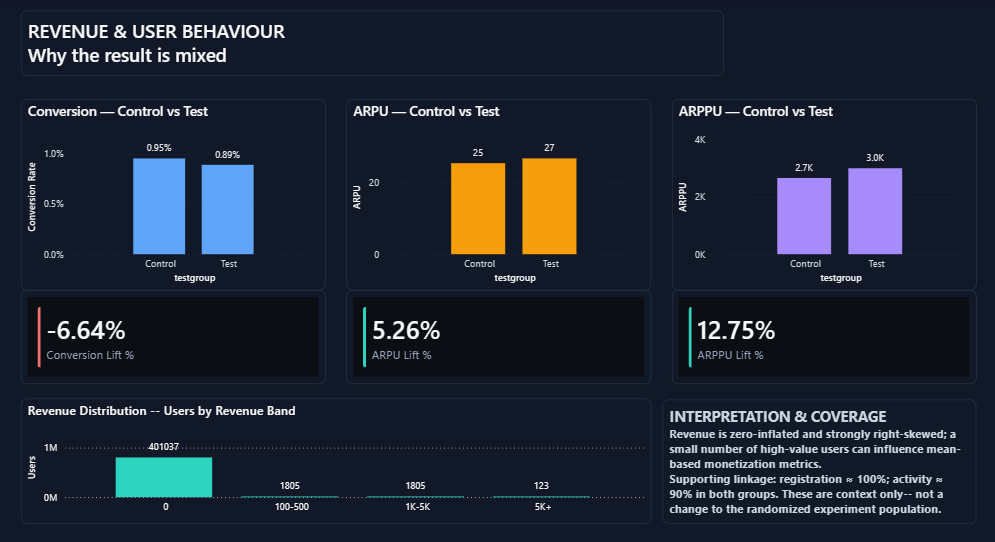

Layout of this report page (visuals, bound fields, positions):
{"tool":"powerbi","page":{"name":"Revenue & User Behaviour","canvas":[1280,720],"ordinal":1},"visuals":[{"type":"textbox","box":[27.9,17.6,899.6,83.6],"z":1000},{"type":"clusteredColumnChart","title":"Conversion — Control vs Test","fields":{"Category":["ab_test.testgroup"],"Y":["ab_test.Conversion Rate"]},"box":[27.9,130.6,390,245],"z":1000},{"type":"clusteredColumnChart","title":"ARPU — Control vs Test","fields":{"Category":["ab_test.testgroup"],"Y":["ab_test.ARPU"]},"box":[444.6,130.6,390,245],"z":1000},{"type":"clusteredColumnChart","title":"ARPPU — Control vs Test","fields":{"Category":["ab_test.testgroup"],"Y":["ab_test.ARPPU"]},"box":[861.4,130.6,390,245],"z":1000},{"type":"cardVisual","fields":{"Data":["ab_test.Conversion Lift %"]},"box":[28,375,390,120],"z":1000},{"type":"cardVisual","fields":{"Data":["ab_test.ARPU Lift %"]},"box":[445,375,390,120],"z":1000},{"type":"cardVisual","fields":{"Data":["ab_test.ARPPU Lift %"]},"box":[862,375,390,120],"z":1000},{"type":"textbox","box":[850,515,402,160],"z":1000},{"type":"clusteredColumnChart","title":"Revenue Distribution -- Users by Revenue Band","fields":{"Category":["Revenue Distribution.Revenue Band"],"Y":["Revenue Distribution.Revenue Band Users"]},"box":[27.5,514.4,807.4,160.3],"z":1001}]}

Visuals, with their boxes on the page's 1280x720 design canvas (x1, y1, x2, y2). These are canvas units, not pixel positions in the 995x542 screenshot, which may show the page scaled, cropped or inside an application window:
textbox: [28, 18, 928, 101]
"Conversion — Control vs Test" clusteredColumnChart: [28, 131, 418, 376]
"ARPU — Control vs Test" clusteredColumnChart: [445, 131, 835, 376]
"ARPPU — Control vs Test" clusteredColumnChart: [861, 131, 1251, 376]
cardVisual - ab_test.Conversion Lift %: [28, 375, 418, 495]
cardVisual - ab_test.ARPU Lift %: [445, 375, 835, 495]
cardVisual - ab_test.ARPPU Lift %: [862, 375, 1252, 495]
textbox: [850, 515, 1252, 675]
"Revenue Distribution -- Users by Revenue Band" clusteredColumnChart: [28, 514, 835, 675]
